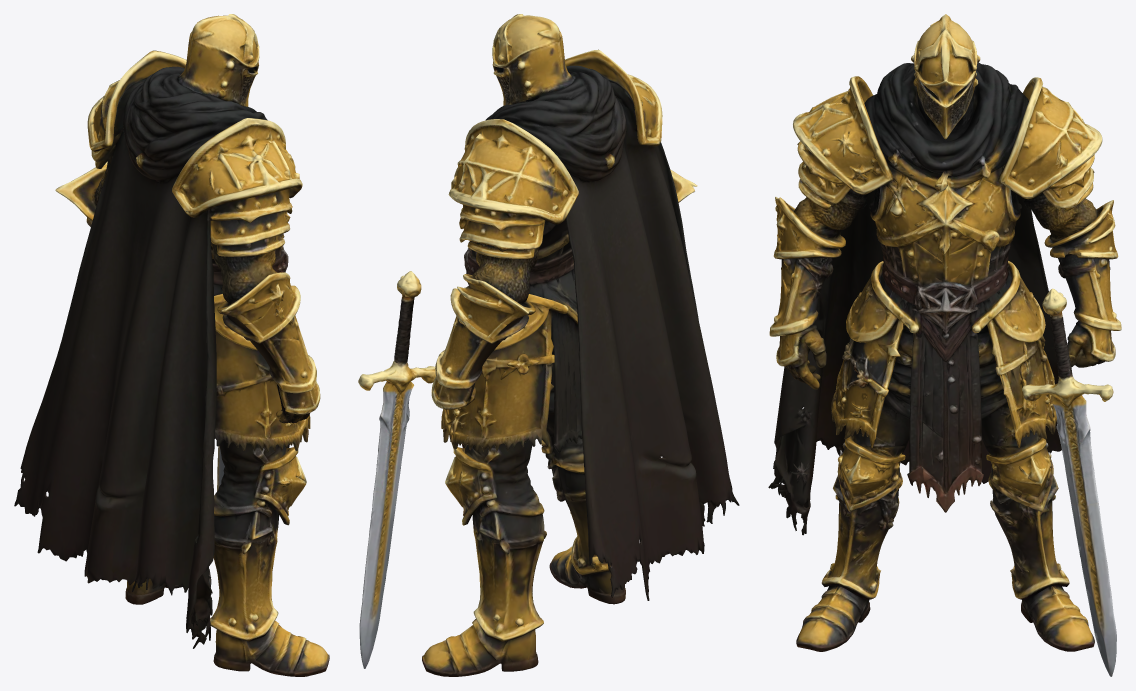
Rendered from fenrir-paladin.glb.
3 renders of one model, left to right at view 1: azimuth 30°, elevation 25°; view 2: azimuth 150°, elevation 25°; view 3: azimuth 270°, elevation 25°, orthographic.
Parts seen in each view (by area): view 1: tripo_node_3786d797_tripo_mat_3786d797_0; view 2: tripo_node_3786d797_tripo_mat_3786d797_0; view 3: tripo_node_3786d797_tripo_mat_3786d797_0.
Boxes of the visible parts, x1,y1,x2,y2 form: tripo_node_3786d797_tripo_mat_3786d797_0: (14, 14, 329, 676); tripo_node_3786d797_tripo_mat_3786d797_0: (358, 14, 739, 676); tripo_node_3786d797_tripo_mat_3786d797_0: (768, 14, 1121, 676).
Size of the model in its own units: 0.4089 by 0.9796 by 0.5121.
1 material, 1 textured.
